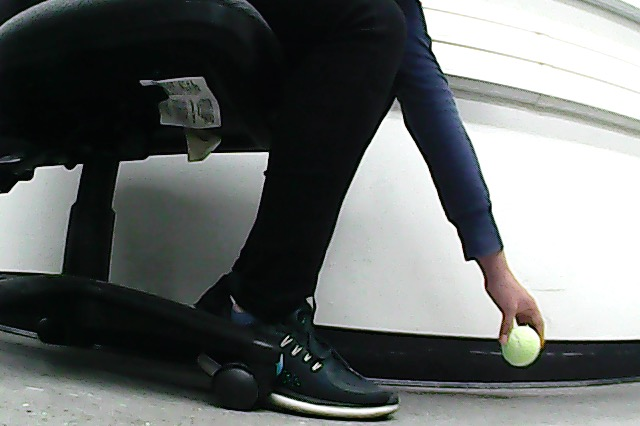ball: (502, 326, 541, 366)
